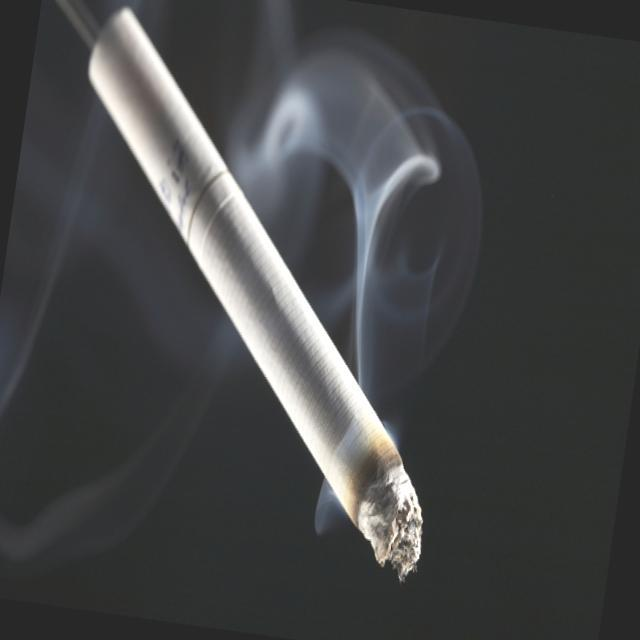cigarette: (19, 0, 499, 599)
